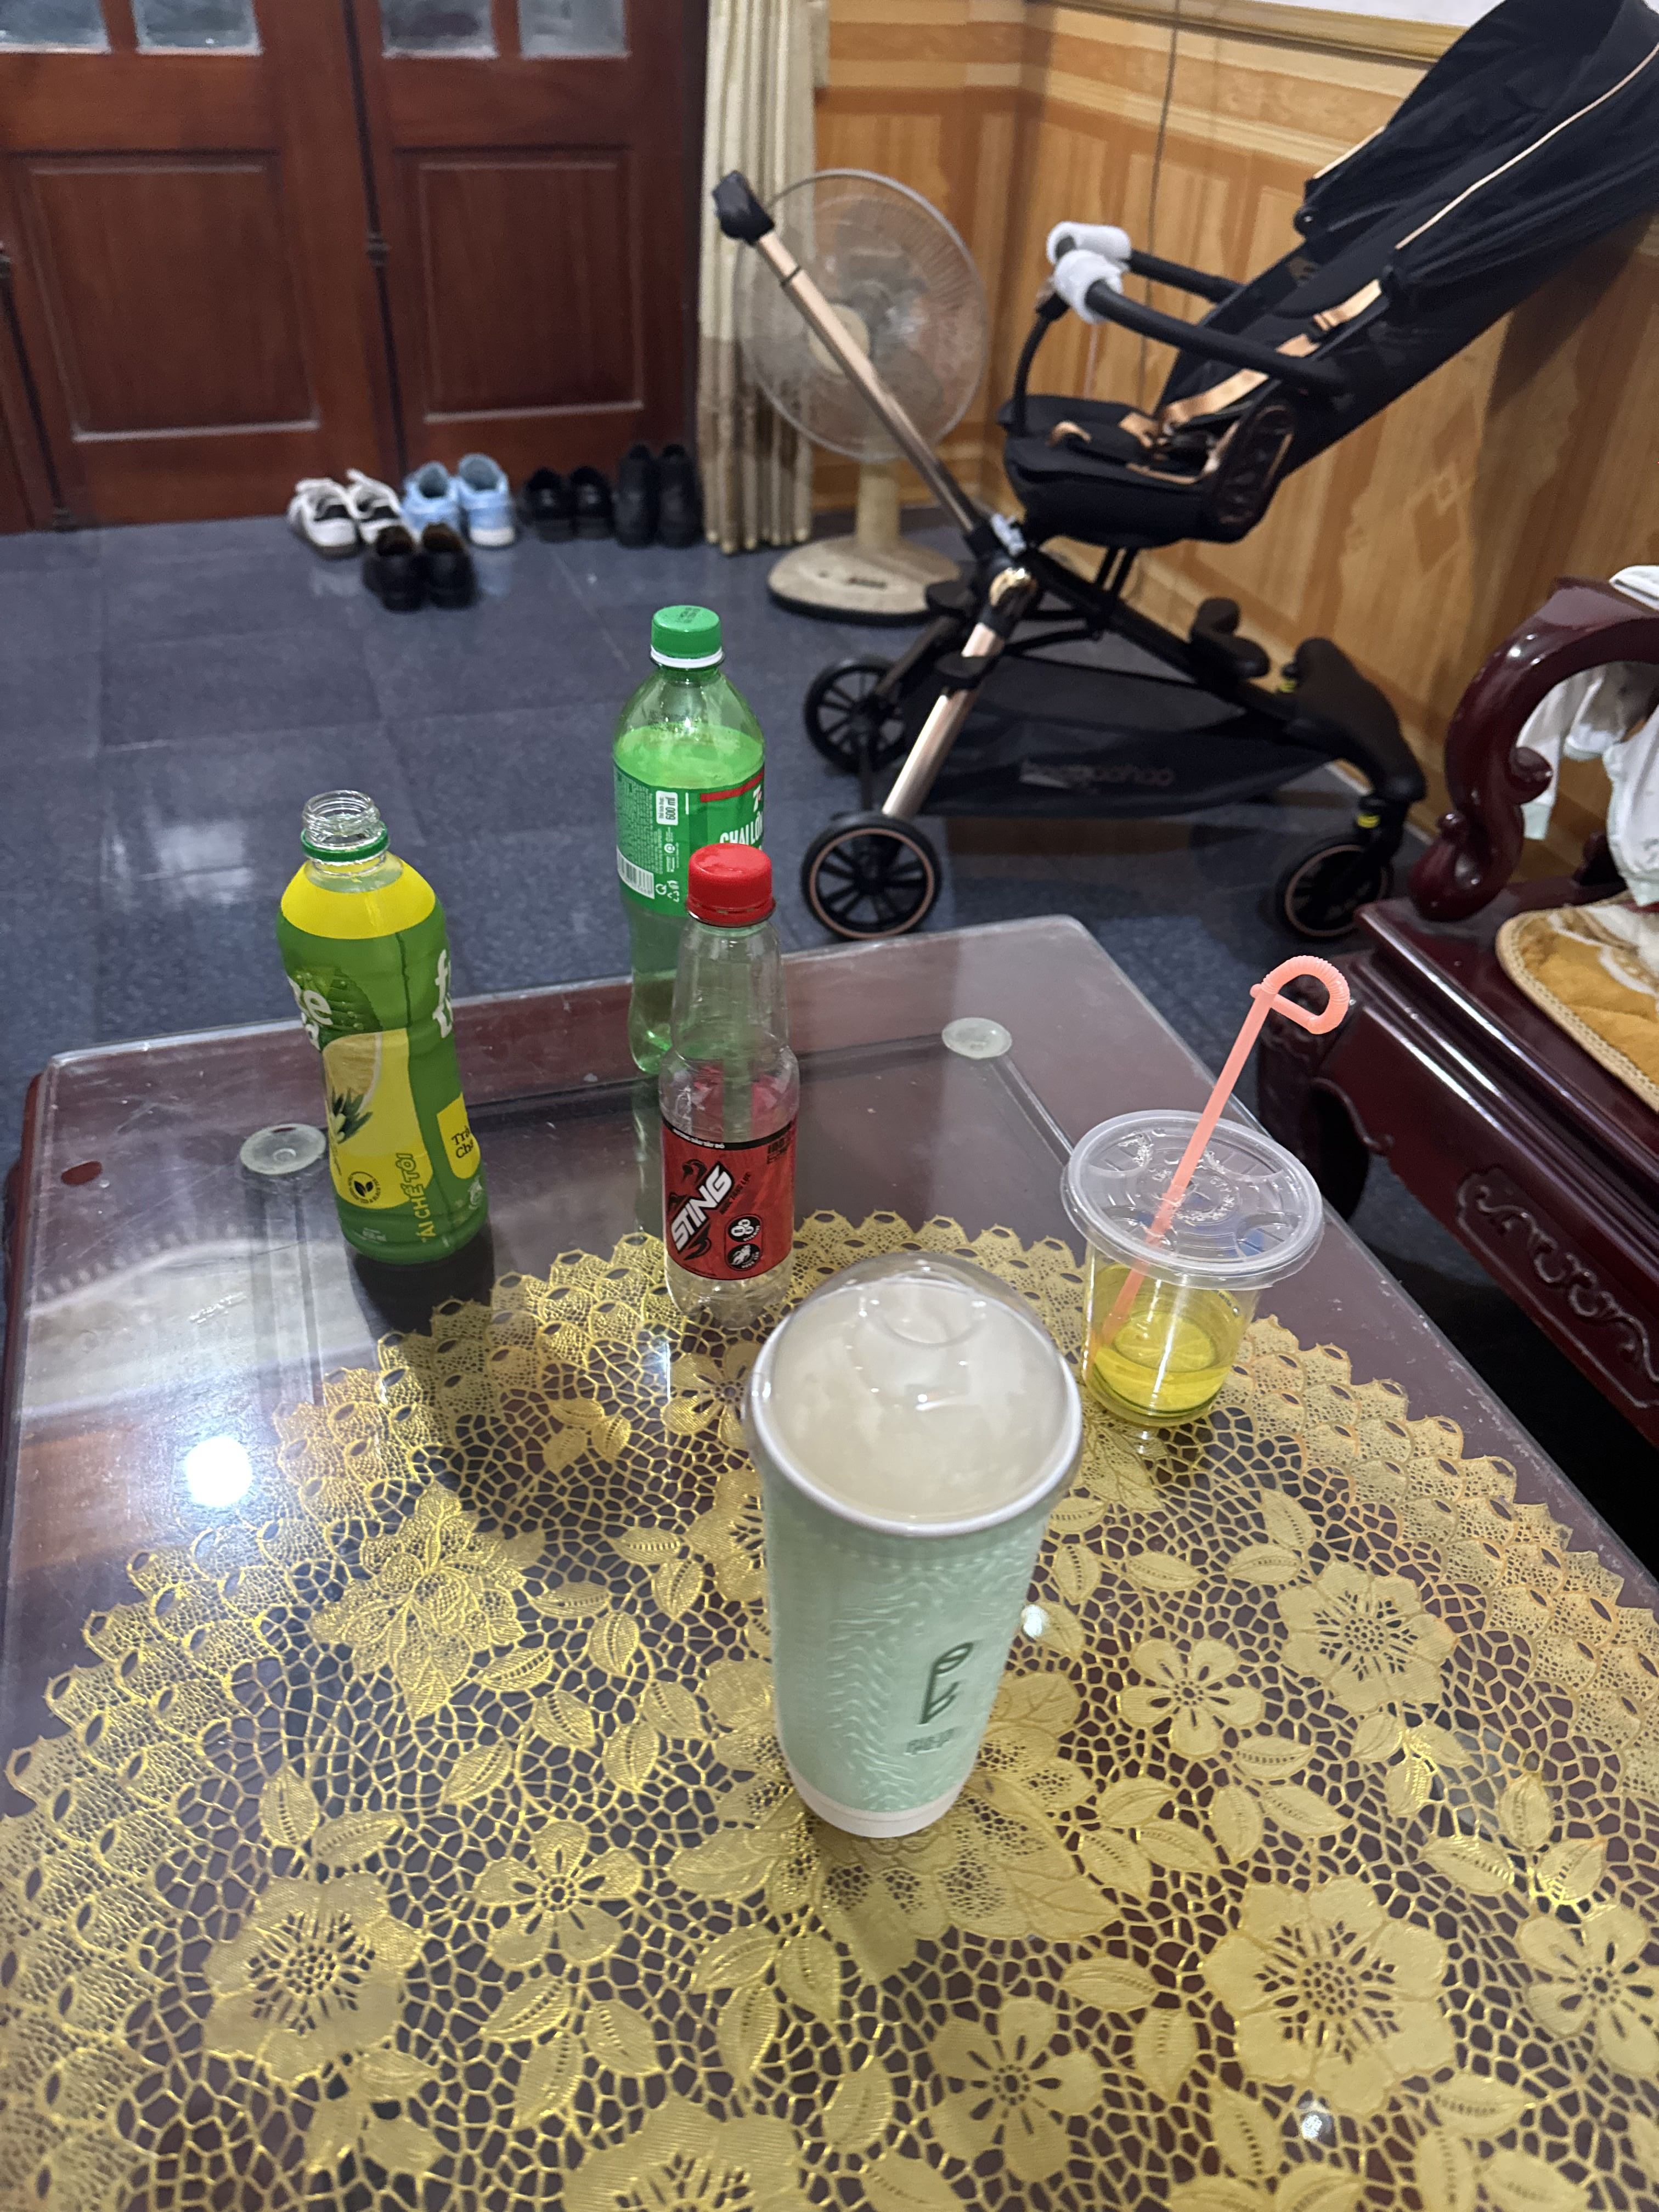2: (725, 1226, 1093, 1888), (1033, 1096, 1373, 1453)
bottle: (253, 759, 540, 1313), (627, 833, 843, 1348), (598, 573, 786, 1082)
